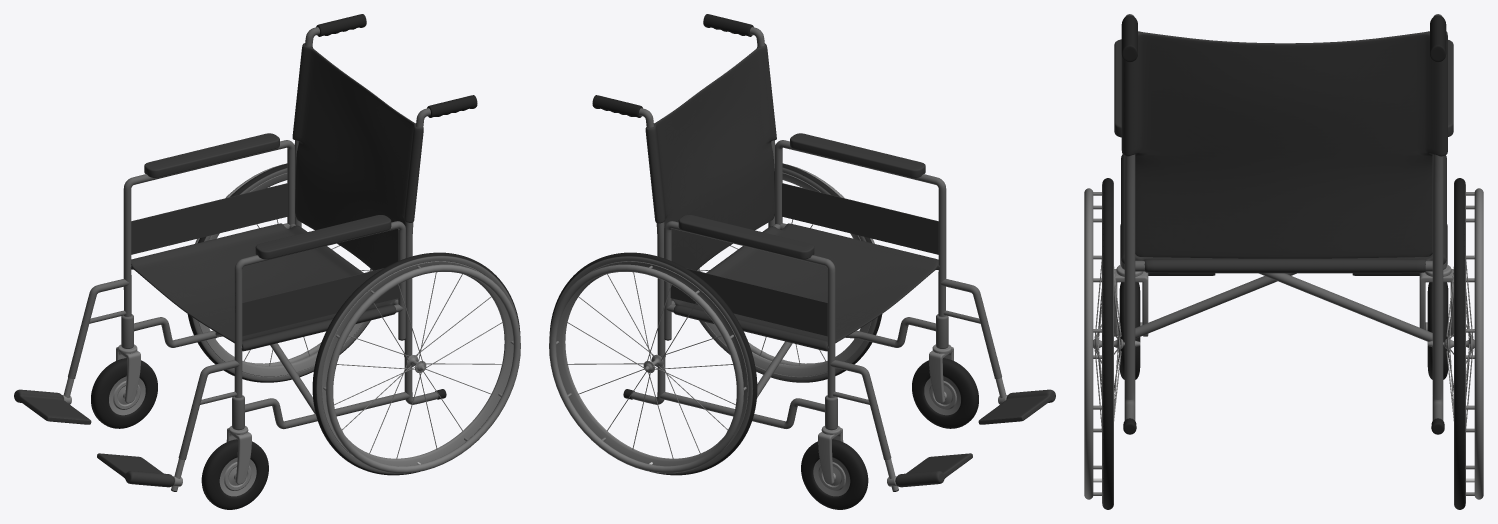
The model's file is WheelChair_01.fbx.
3 views of the same model, side by side, from view 1: azimuth 30°, elevation 25°; view 2: azimuth 150°, elevation 25°; view 3: azimuth 270°, elevation 25° (orthographic). The views are drawn at different scales.
Visible parts, largest first — view 1: WheelChair_01; view 2: WheelChair_01; view 3: WheelChair_01.
Part boxes in pixels (x1=…): WheelChair_01: x1=14, y1=14, x2=520, y2=509; WheelChair_01: x1=549, y1=14, x2=1055, y2=509; WheelChair_01: x1=1084, y1=14, x2=1483, y2=509.
Bounding box in the file's own units: 124 × 109 × 80.12.
Materials: 1 (1 with a texture image).
